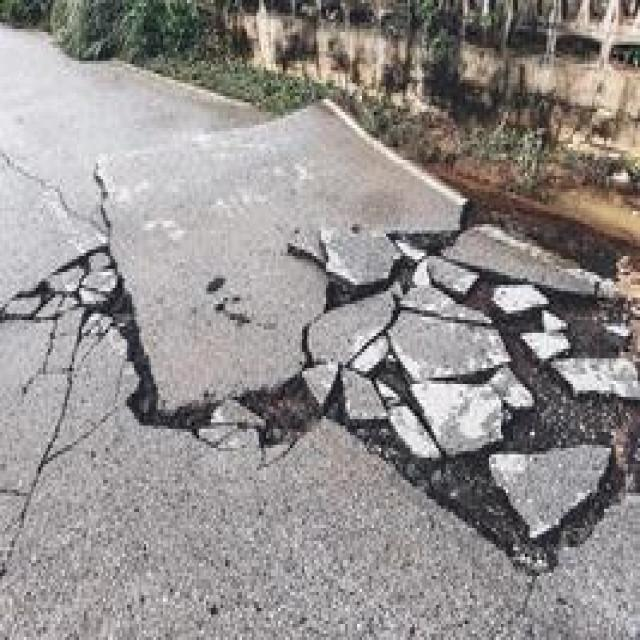road collapse: (24, 64, 640, 595)
